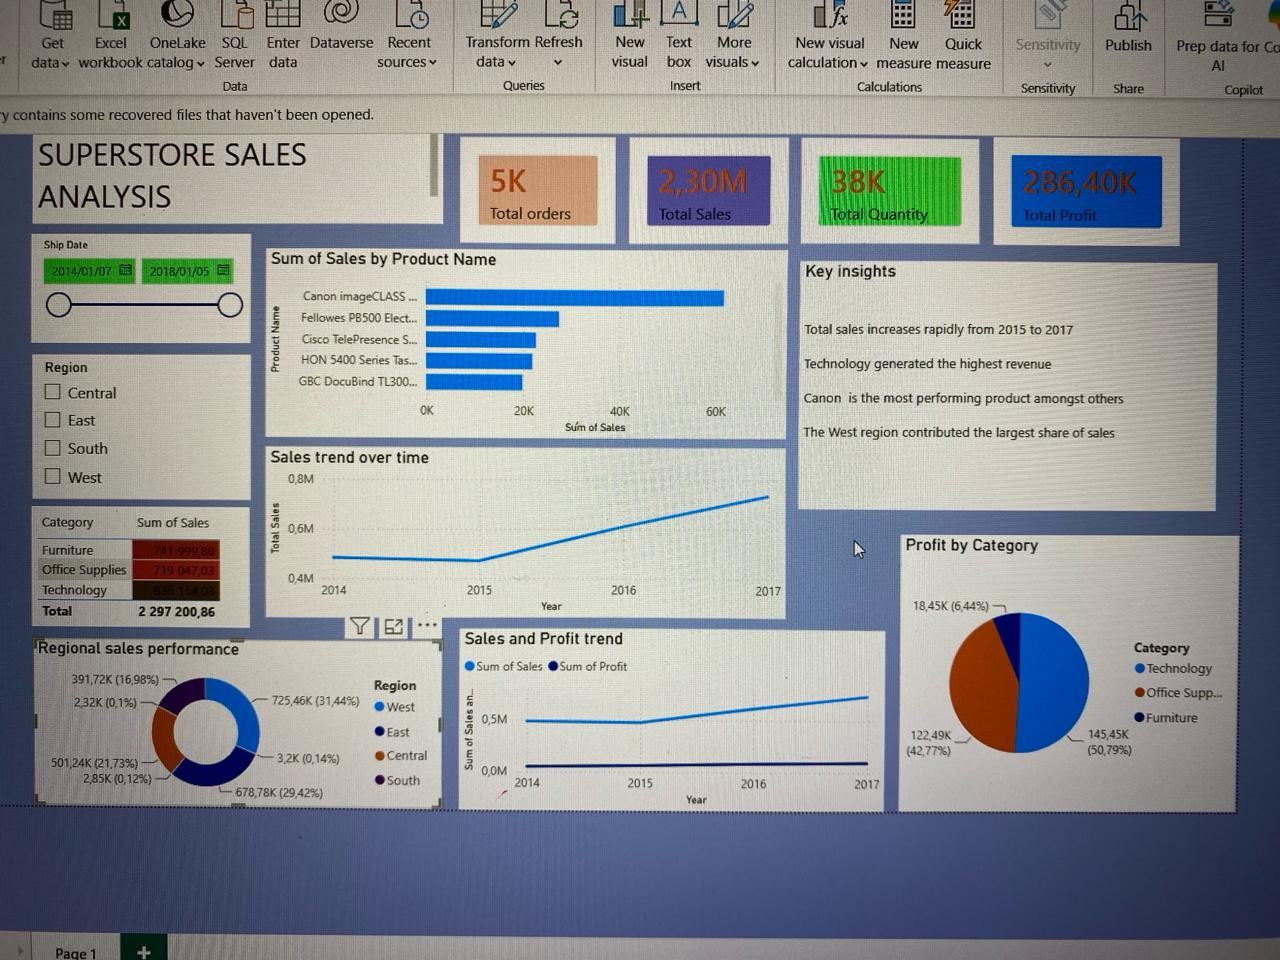

This screenshot's page, from the dashboard's own definition file:
{"tool":"powerbi","page":{"name":"Page 1","canvas":[1280,720],"ordinal":0},"visuals":[{"type":"cardVisual","fields":{"Data":["Sample - Superstore.Total Profit"]},"box":[1025,28.8,191.2,110],"z":0},{"type":"cardVisual","fields":{"Data":["Sample - Superstore.Total Sales"]},"box":[653.8,31.2,162.5,107.5],"z":1000},{"type":"cardVisual","fields":{"Data":["Sample - Superstore.Total Quantity"]},"box":[828.8,31.2,181.2,107.5],"z":2000},{"type":"pieChart","title":"Profit by Category","fields":{"Category":["Sample - Superstore.Category"],"Y":["Sum(Sample - Superstore.Profit)"]},"box":[932.5,435,347.5,285],"z":4000},{"type":"lineChart","title":"Sales and Profit trend","fields":{"Y":["Sum(Sample - Superstore.Sales)","Sum(Sample - Superstore.Profit)"],"Category":["Sample - Superstore.Order Date.Variation.Date Hierarchy.Year"]},"box":[481.2,533.8,436.2,186.2],"z":6000},{"type":"slicer","fields":{"Values":["Sample - Superstore.Region"]},"box":[40,253.8,227.5,148.8],"z":7000},{"type":"tableEx","fields":{"Values":["Sample - Superstore.Category","Sum(Sample - Superstore.Sales)"]},"box":[38.8,410,227.5,123.8],"z":8000},{"type":"donutChart","title":" Regional sales performance","fields":{"Category":["Sample - Superstore.Region"],"Y":["Sum(Sample - Superstore.Sales)","CountNonNull(Sample - Superstore.Region)"]},"box":[40,546.2,423.8,173.8],"z":8001},{"type":"lineChart","title":"Sales trend over time","fields":{"Category":["Sample - Superstore.Order Date.Variation.Date Hierarchy.Year"],"Y":["Sample - Superstore.Total Sales"]},"box":[282.5,347.5,533.8,175],"z":8002},{"type":"slicer","fields":{"Values":["Sample - Superstore.Ship Date"]},"box":[38.8,130,227.5,111.2],"z":8003},{"type":"cardVisual","fields":{"Data":["Sample - Superstore.Total orders"]},"box":[481.2,31.2,158.8,107.5],"z":8004},{"type":"barChart","fields":{"Y":["Sum(Sample - Superstore.Sales)"],"Category":["Sample - Superstore.Product Name"]},"box":[282.5,145,533.8,192.5],"z":8006},{"type":"textbox","box":[40,21.2,423.8,98.8],"z":8007},{"type":"textbox","title":"Key insights","box":[828.8,156.2,426.2,253.8],"z":8008}]}

Visuals, with their boxes in screenshot pixels (x1, y1, x2, y2):
cardVisual - Sample - Superstore.Total Profit: [968, 147, 1150, 252]
cardVisual - Sample - Superstore.Total Sales: [615, 150, 770, 252]
cardVisual - Sample - Superstore.Total Quantity: [782, 150, 954, 252]
"Profit by Category" pieChart: [880, 534, 1211, 805]
"Sales and Profit trend" lineChart: [451, 628, 866, 805]
slicer - Sample - Superstore.Region: [31, 361, 248, 503]
tableEx - Sample - Superstore.Category x Sum(Sample - Superstore.Sales): [30, 510, 247, 628]
" Regional sales performance" donutChart: [31, 640, 435, 805]
"Sales trend over time" lineChart: [262, 451, 770, 617]
slicer - Sample - Superstore.Ship Date: [30, 244, 247, 349]
cardVisual - Sample - Superstore.Total orders: [451, 150, 602, 252]
barChart - Sum(Sample - Superstore.Sales) x Sample - Superstore.Product Name: [262, 258, 770, 441]
textbox: [31, 140, 435, 234]
"Key insights" textbox: [782, 269, 1187, 510]
